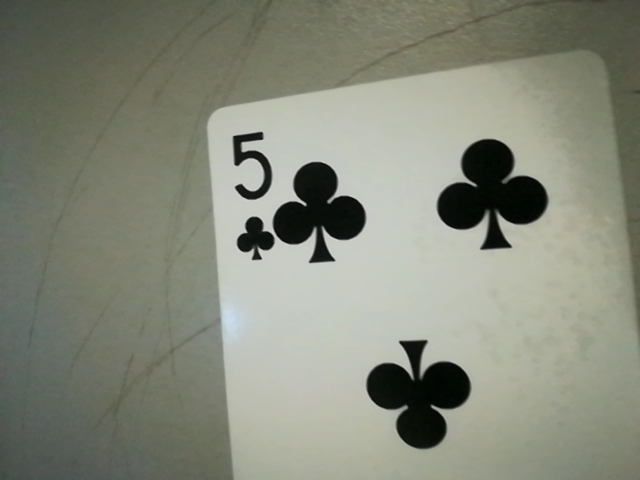mh 5: (216, 121, 278, 265)
